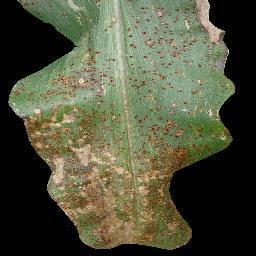Corn_Common_Rust: (7, 31, 239, 107), (19, 107, 234, 189), (49, 189, 196, 252), (15, 0, 228, 31)
